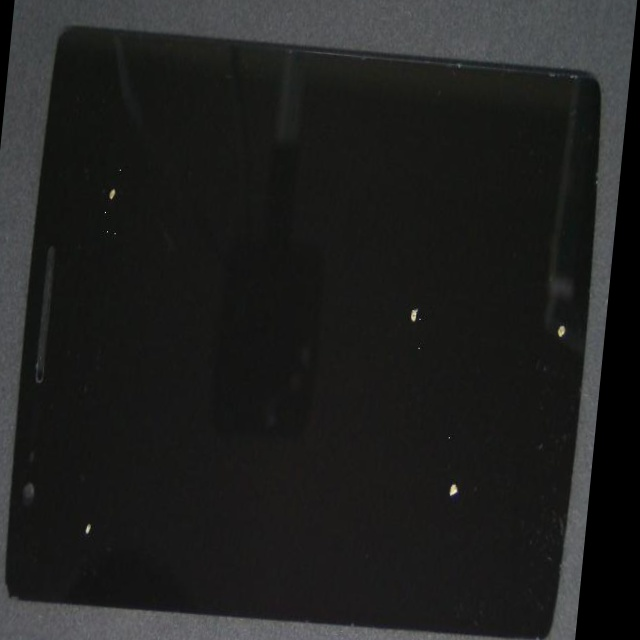stain: (159, 124, 621, 558), (186, 235, 611, 640), (230, 181, 616, 578), (8, 249, 158, 640), (9, 71, 179, 376)
